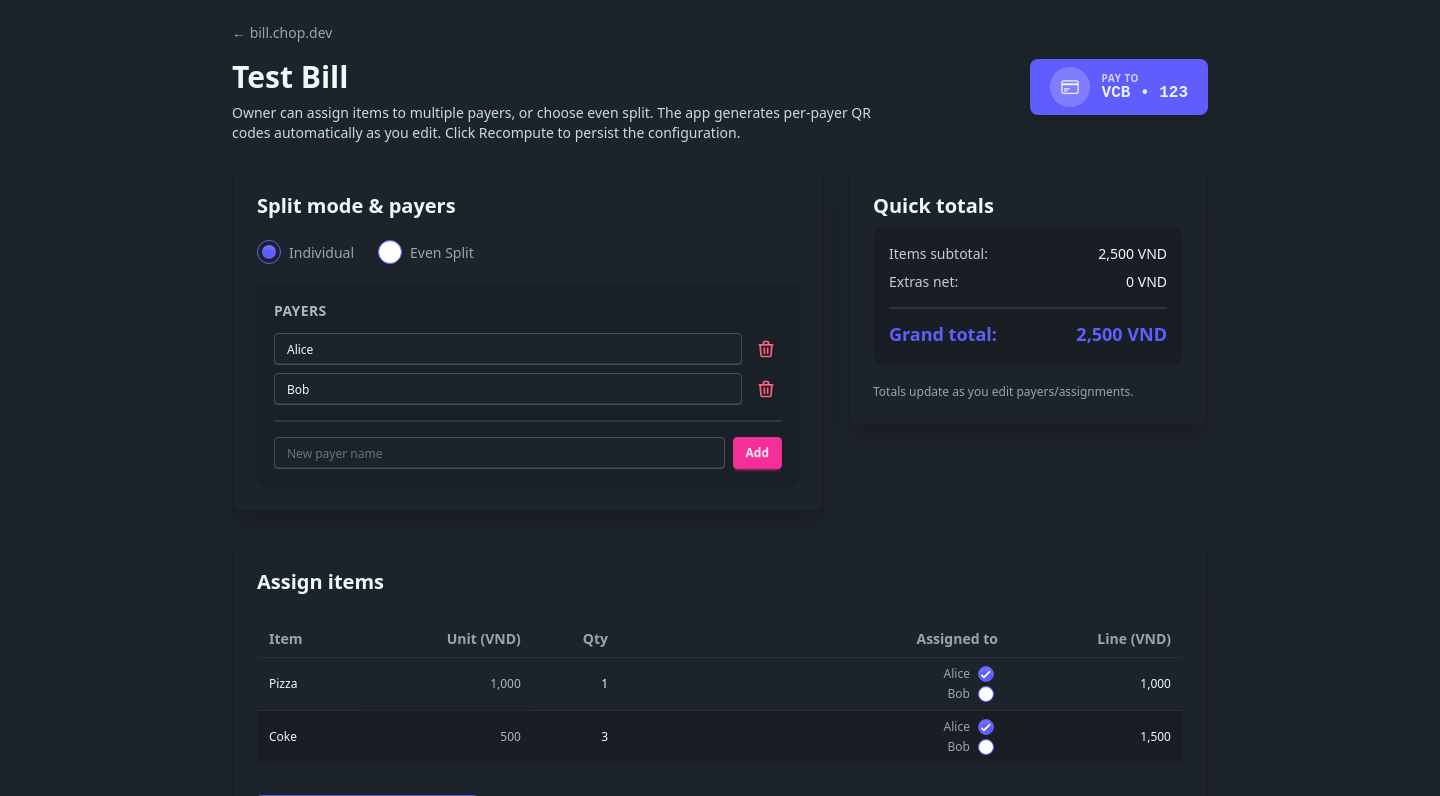
Test: bill/+page.svelte › should allow assigning an item to multiple payers and split evenly
Expected: the heading "Test Bill" is shown, [232,56,348,97]
Expected: the text with test id "pay-to" reads "VCB • 123", [1102,84,1188,102]
Click the checkbox labelled "Bob" in the row of "Pizza": coordinates (986, 694) [978,686,994,702]
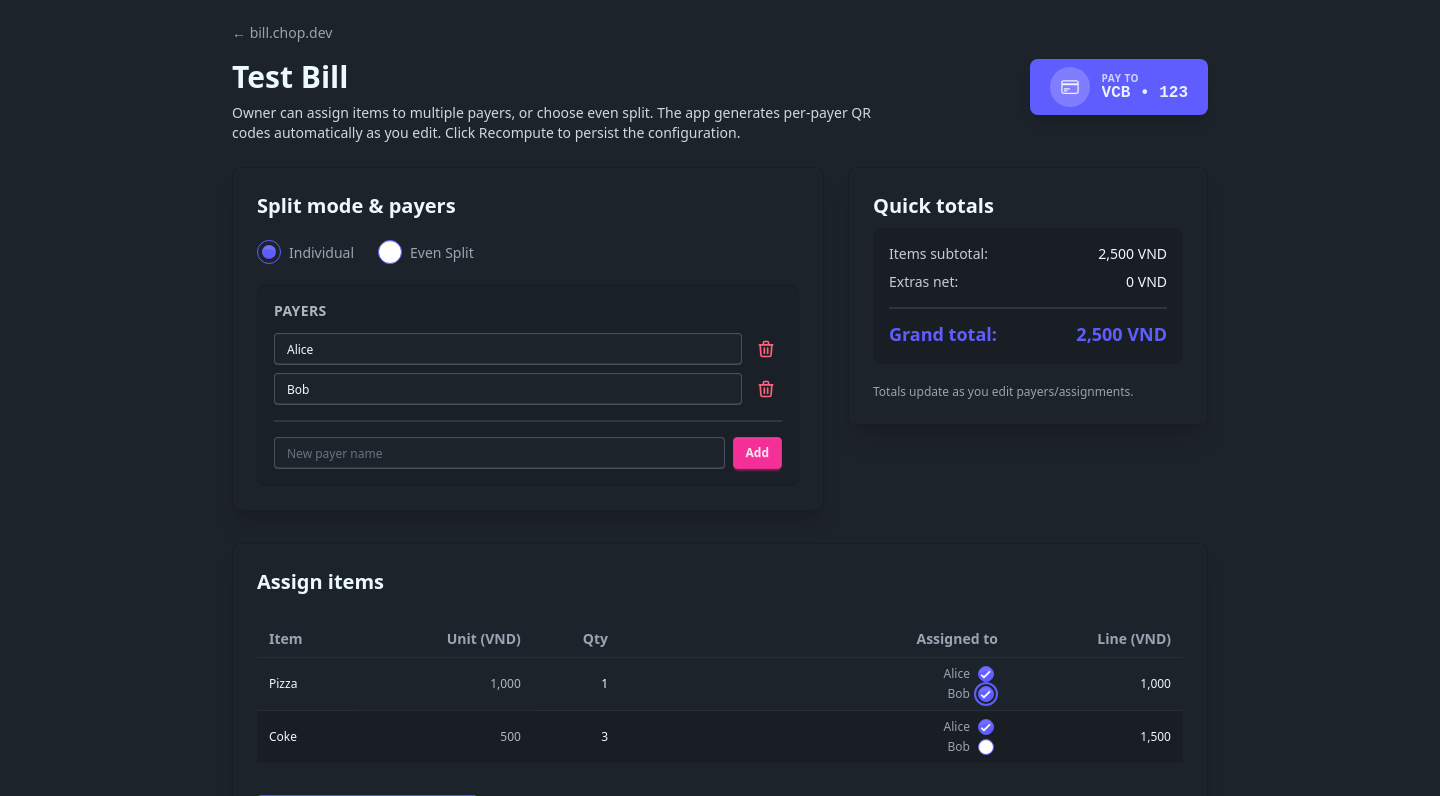
Click the checkbox labelled "Bob" in the row of "Coke": coordinates (986, 747) [978,739,994,755]
(page scrolled)
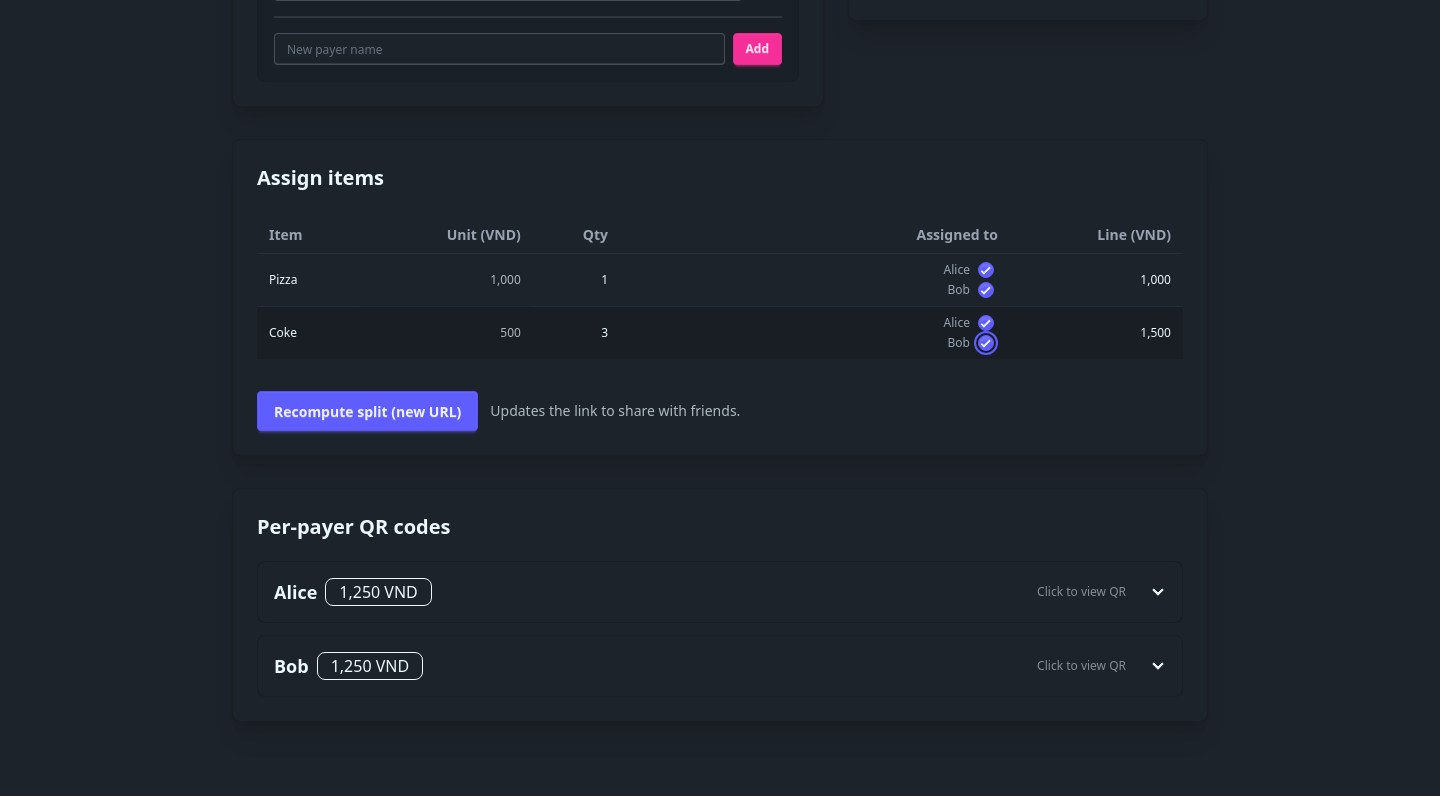
Expected: the text with test id "payer-amount-Alice" reads "1,250 VND", [339,581,418,603]
Expected: the text with test id "payer-amount-Bob" reads "1,250 VND", [331,655,409,677]
